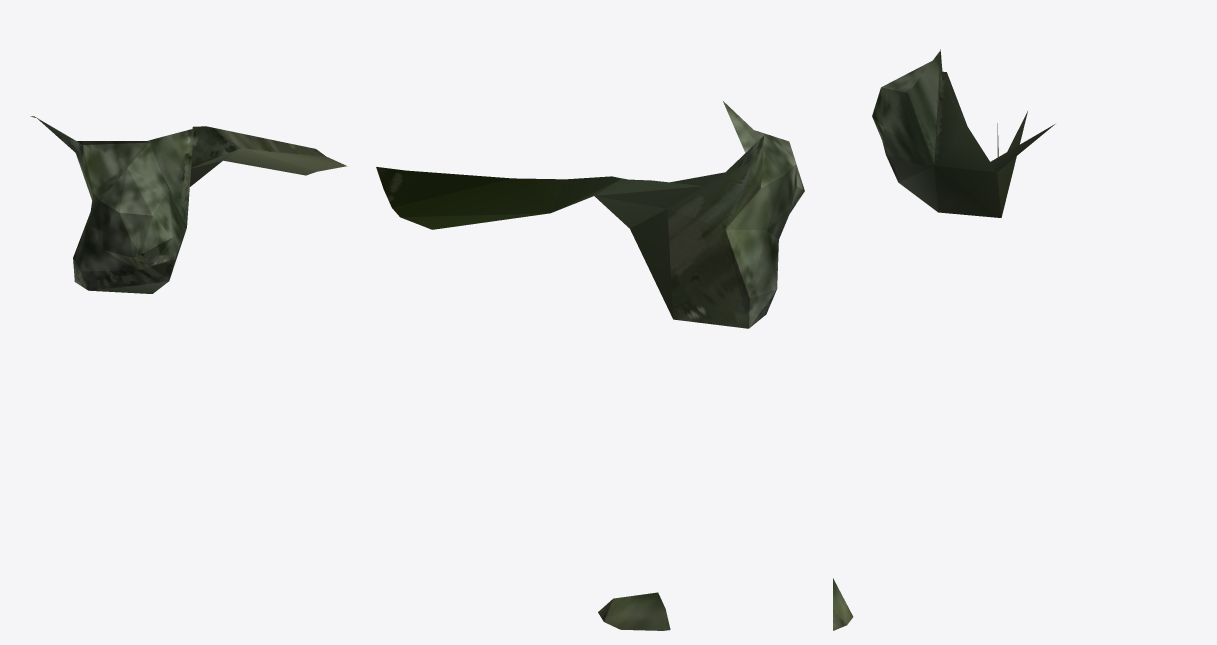
3 views of the same model, side by side, from view 1: azimuth 30°, elevation 25°; view 2: azimuth 150°, elevation 25°; view 3: azimuth 270°, elevation 25° (orthographic). The views are drawn at different scales.
Bounding box in the file's own units: 1.38 × 2.95 × 1.95.
Materials: 1 (1 with a texture image).
